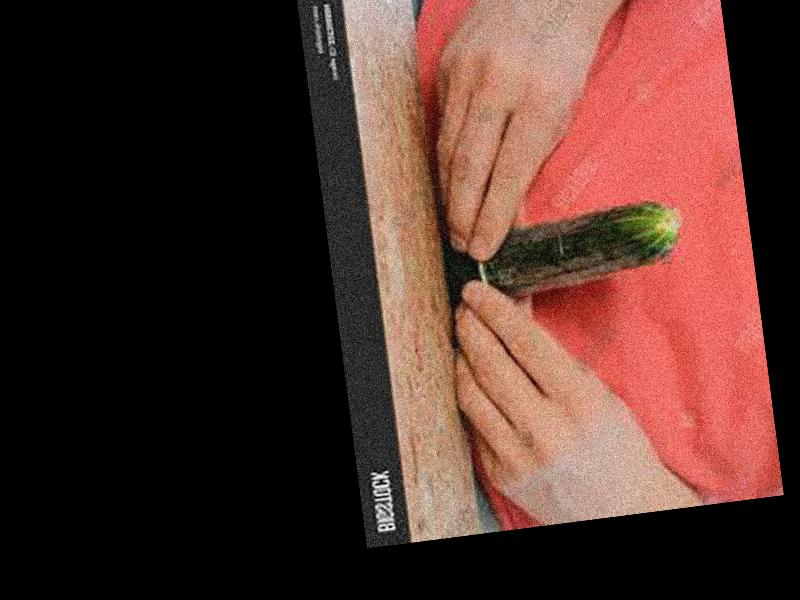Cucumber: (442, 196, 686, 304)
